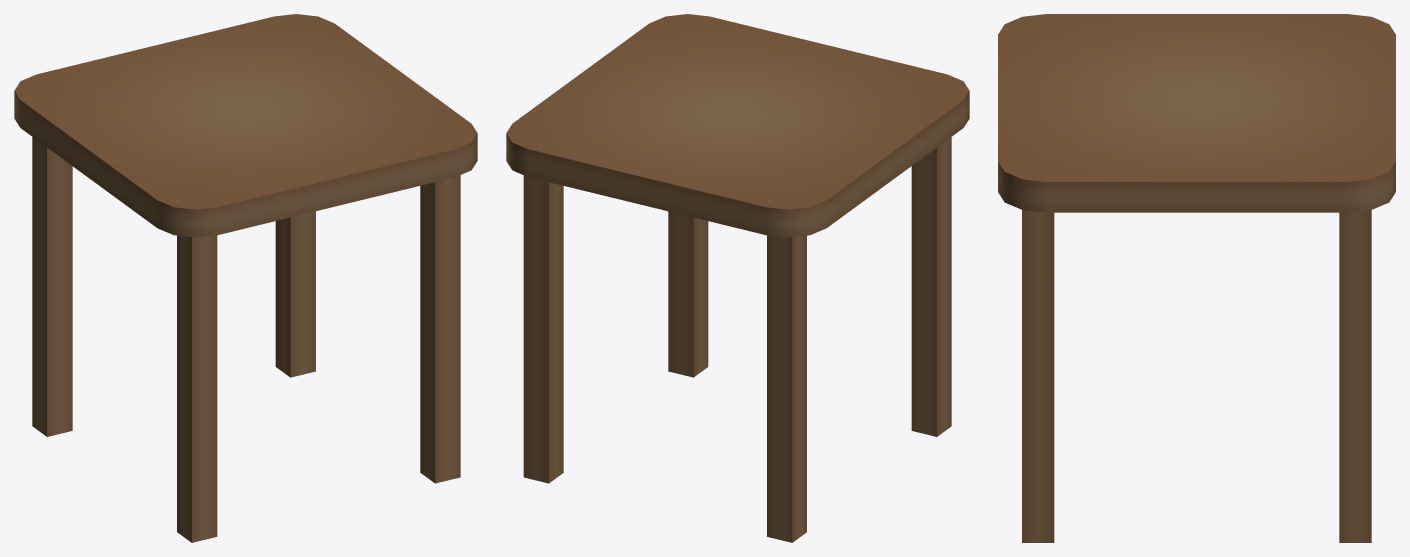
File: bad chair 2.fbx
3 renders of one model, left to right at view 1: azimuth 30°, elevation 25°; view 2: azimuth 150°, elevation 25°; view 3: azimuth 270°, elevation 25°, orthographic. The views are drawn at different scales.
Visible parts, largest first — view 1: chair_3_bad; view 2: chair_3_bad; view 3: chair_3_bad.
Part boxes in pixels (x1,y1,x2,y2): chair_3_bad: (14, 14, 477, 542); chair_3_bad: (506, 14, 969, 542); chair_3_bad: (998, 14, 1395, 542).
Size of the model in its own units: 3.93 by 4.07 by 3.93.
Materials: 1 (1 with a texture image).
